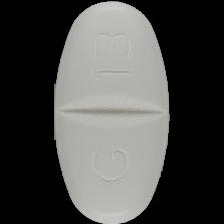63187-010: (0, 0, 224, 224)
